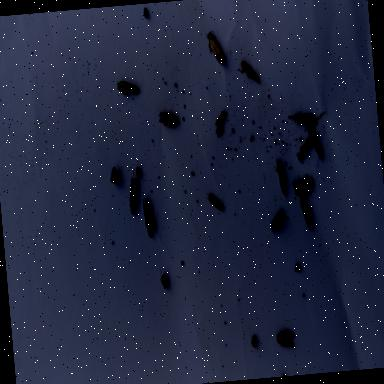pbw: (288, 110, 328, 133), (124, 168, 140, 216), (206, 30, 225, 66), (238, 56, 260, 84), (294, 134, 316, 160), (143, 197, 156, 238), (270, 208, 291, 233), (300, 193, 312, 230), (292, 176, 314, 196), (116, 78, 140, 96), (311, 126, 323, 160), (205, 191, 224, 212), (275, 158, 286, 194), (213, 109, 228, 135), (276, 330, 296, 349), (158, 109, 178, 128)
